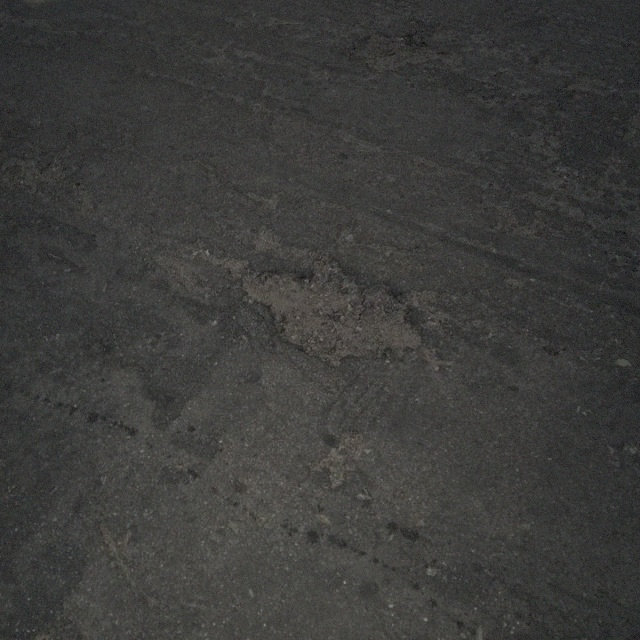pothole: (234, 256, 426, 369), (344, 32, 442, 74)
